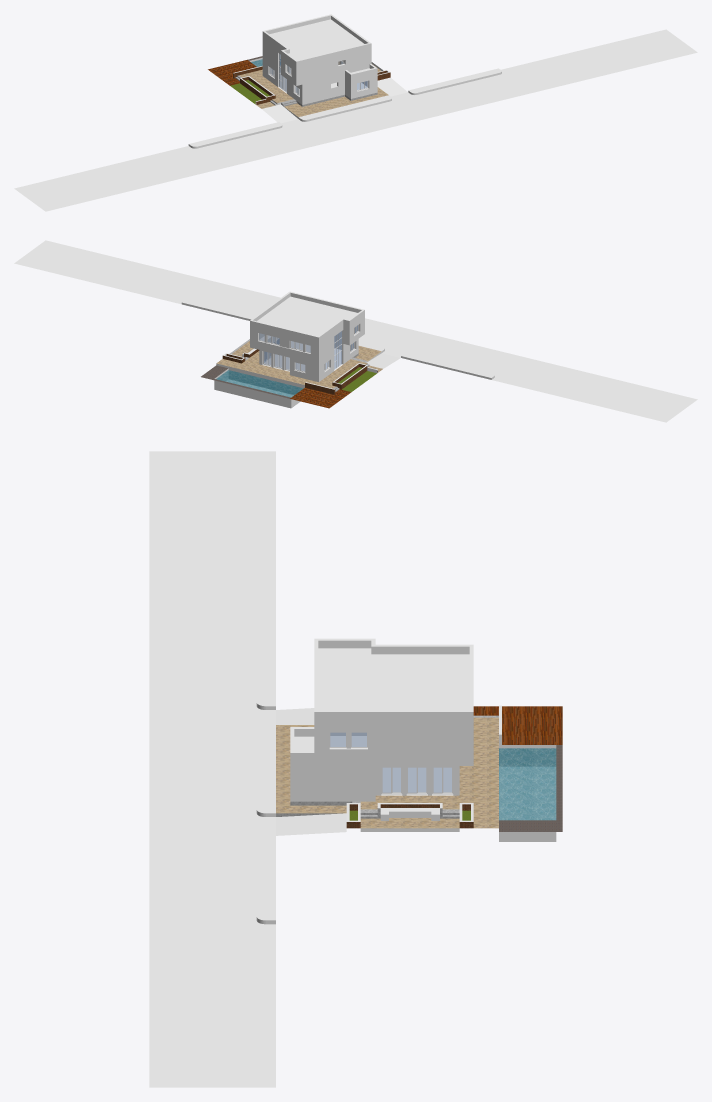
The picture shows the model from 3 angles, top to bottom: view 1: azimuth 30°, elevation 25°; view 2: azimuth 150°, elevation 25°; view 3: azimuth 270°, elevation 25°; orthographic projection. The views are drawn at different scales.
Parts seen in each view (by area): view 1: 16000, 15156, 17554, 16919, 19430, 16897, 16010, 16896; view 2: 16000, 15156, 17554, 19430, 16919, 15985, 16897, 16896, 21423; view 3: 16000, 15156, 17554, 19430, 16919, 15985, 16896, 16897, 16010.
Part boxes in pixels (left/top/right/bottom): 16000: left=14, top=29, right=697, bottom=211; 15156: left=208, top=56, right=407, bottom=123; 17554: left=262, top=14, right=371, bottom=85; 16919: left=262, top=54, right=377, bottom=104; 19430: left=270, top=19, right=363, bottom=60; 16897: left=188, top=122, right=282, bottom=148; 16010: left=298, top=95, right=391, bottom=121; 16896: left=408, top=68, right=501, bottom=94; 16000: left=14, top=240, right=697, bottom=422; 15156: left=201, top=339, right=400, bottom=408; 17554: left=250, top=291, right=364, bottom=361; 19430: left=257, top=296, right=357, bottom=335; 16919: left=259, top=332, right=358, bottom=382; 15985: left=216, top=370, right=303, bottom=397; 16897: left=401, top=353, right=494, bottom=379; 16896: left=181, top=299, right=255, bottom=320; 21423: left=334, top=331, right=342, bottom=369; 16000: left=149, top=451, right=275, bottom=1087; 15156: left=276, top=705, right=562, bottom=841; 17554: left=314, top=638, right=473, bottom=765; 19430: left=318, top=648, right=469, bottom=710; 16919: left=290, top=732, right=459, bottom=801; 15985: left=499, top=748, right=556, bottom=820; 16896: left=256, top=832, right=275, bottom=924; 16897: left=256, top=618, right=275, bottom=709; 16010: left=256, top=725, right=275, bottom=816.
Size of the model in its own units: 107 by 9 by 29.28.
717 materials, 91 textured.
